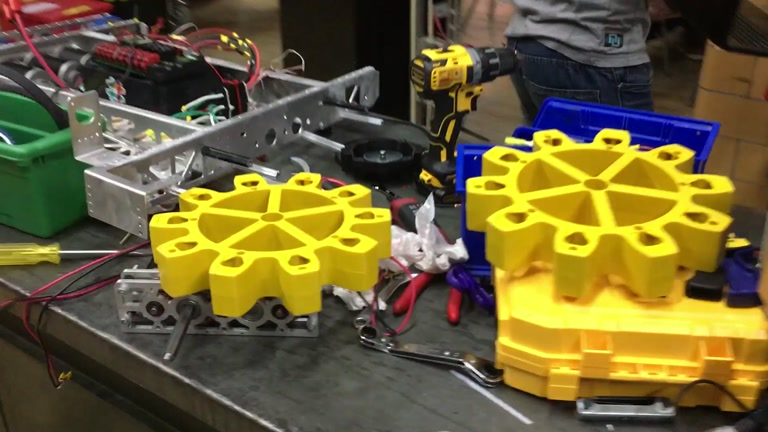gear: (467, 127, 736, 299), (148, 170, 393, 319)
